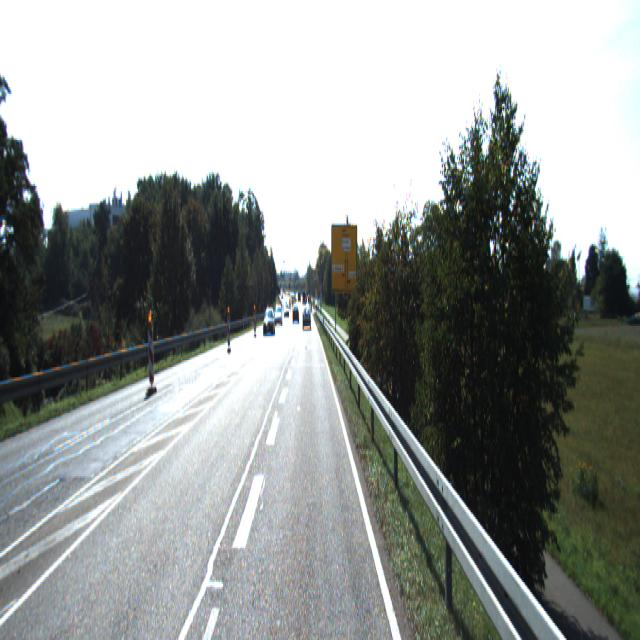Car: (263, 307, 275, 336), (303, 306, 311, 328)
DontCare: (276, 302, 298, 324)
